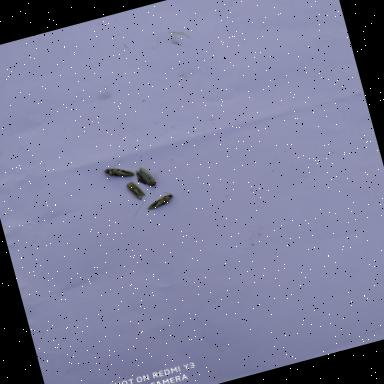pbw: (124, 160, 166, 193), (98, 156, 138, 184), (142, 187, 178, 213), (122, 176, 148, 204)
